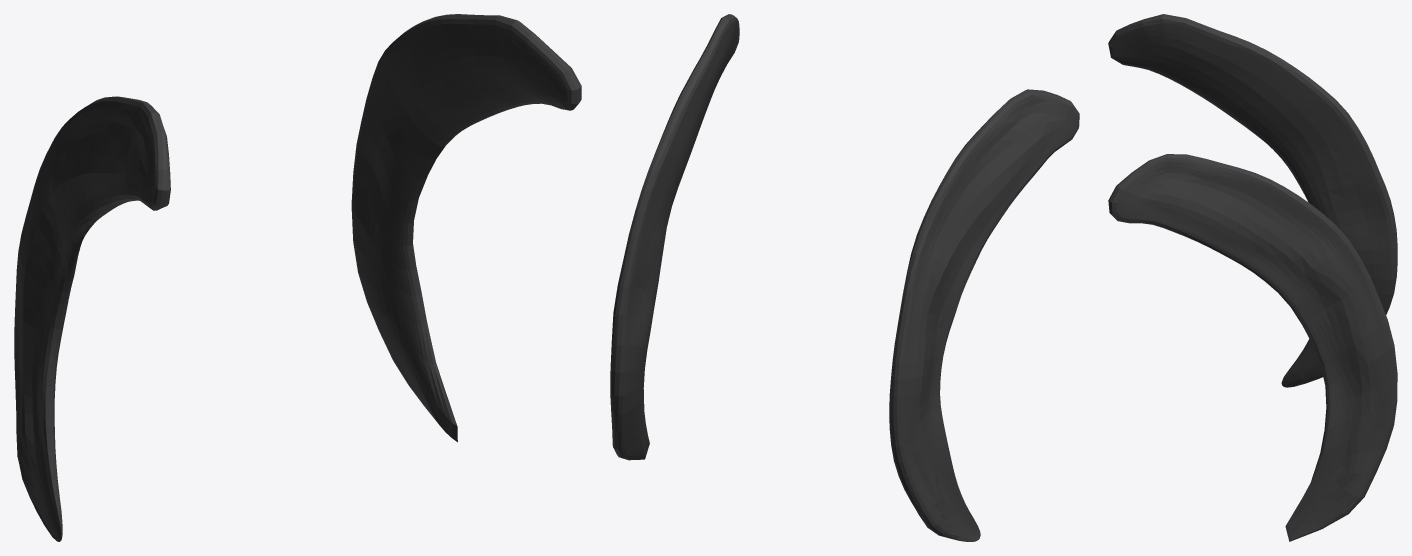
Rendered from B_Scapular_cartilage.glb.
3 views of the same model, side by side, from view 1: azimuth 30°, elevation 25°; view 2: azimuth 150°, elevation 25°; view 3: azimuth 270°, elevation 25° (orthographic). The views are drawn at different scales.
Parts seen in each view (by area): view 1: B_Scapular_cartilage; view 2: B_Scapular_cartilage; view 3: B_Scapular_cartilage.
Part boxes in pixels (<box>): B_Scapular_cartilage: <box>14,14,581,541</box>; B_Scapular_cartilage: <box>610,14,1079,541</box>; B_Scapular_cartilage: <box>1108,14,1397,541</box>.
Size of the model in its own units: 0.00438 by 0.00475 by 0.00328.
Materials: 1 (1 with a texture image).
